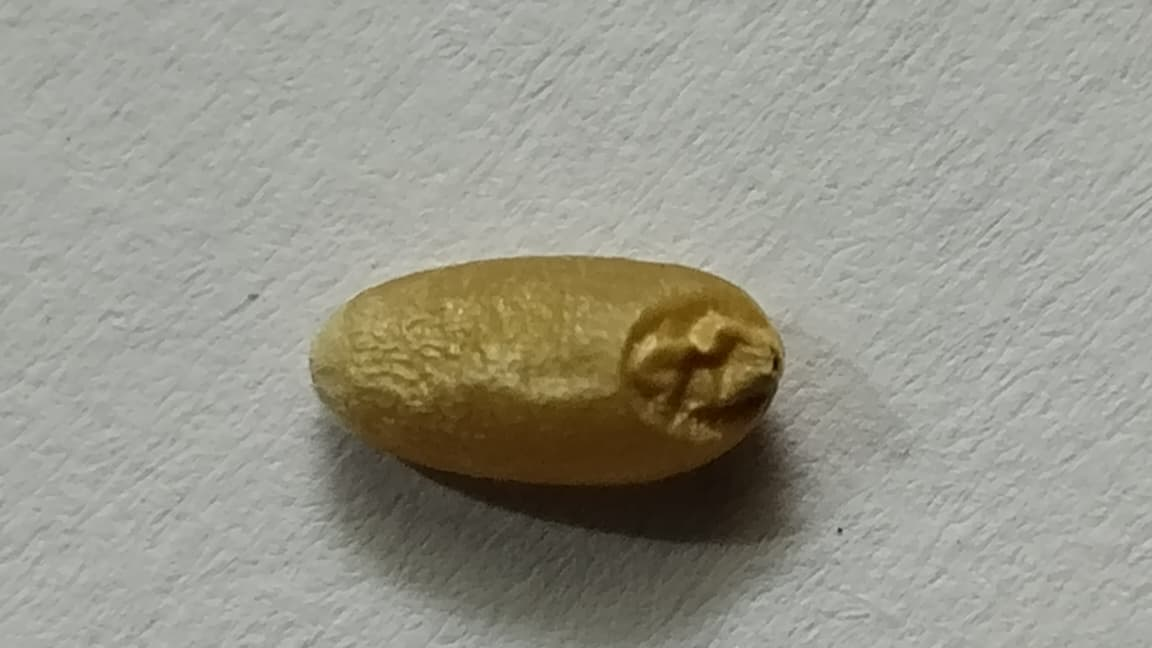healthy: (310, 256, 783, 485)
